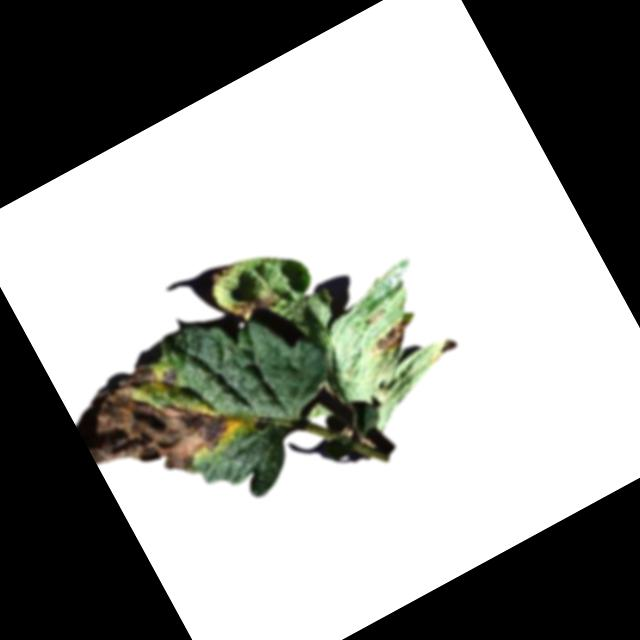Early_blight: (67, 336, 252, 509), (362, 315, 416, 358), (228, 283, 279, 324), (361, 302, 390, 327), (210, 263, 238, 286)
